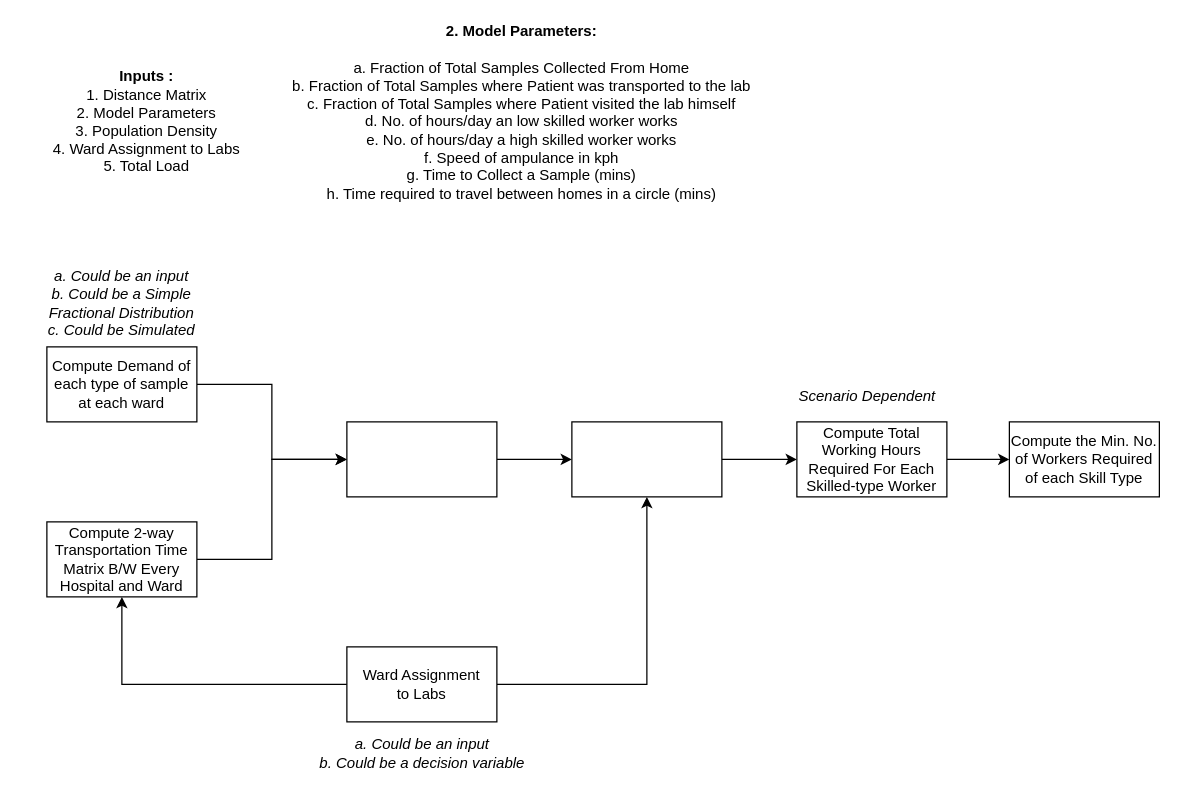
The diagram is 1181 pixels wide and 793 high, and some of its shapes have lost their labels. The shapes that lost their labels are listed below. From the top down, each one's box as (x1, y1, x2, y2) in pixels, then its label:
(346, 421, 497, 497): Compute Time To Collect All Samples in Each Ward
(571, 421, 722, 497): Compute Time to Collect All Samples in Each Lab
